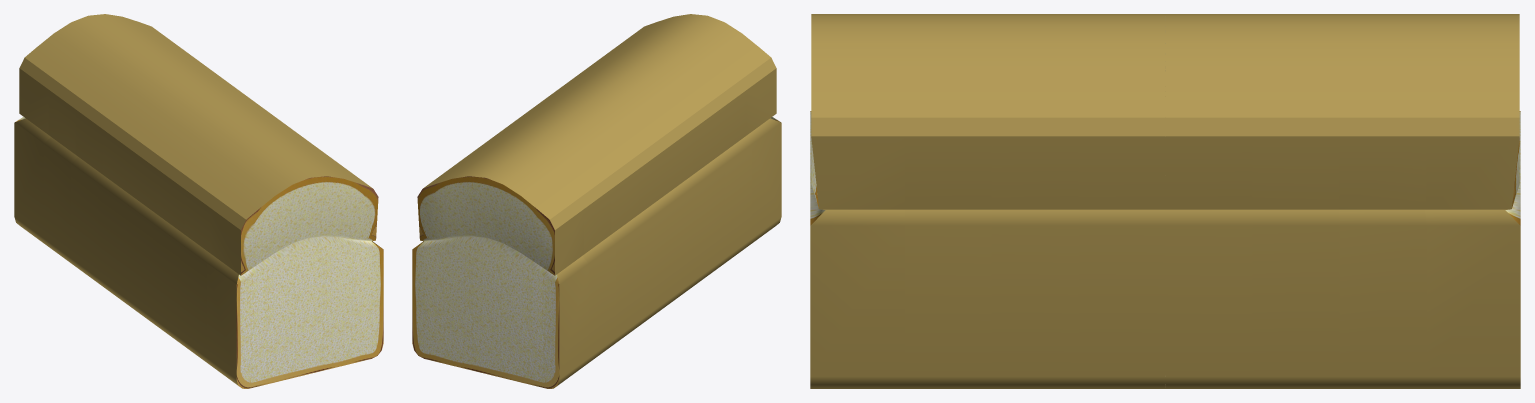
The model's file is Bread.fbx.
The picture shows the model from 3 angles, left to right: view 1: azimuth 30°, elevation 25°; view 2: azimuth 150°, elevation 25°; view 3: azimuth 270°, elevation 25°; orthographic projection. The views are drawn at different scales.
Parts seen in each view (by area): view 1: polySurface11, polySurface10, polySurface16, polySurface17, polySurface13, polySurface14, polySurface12, polySurface15; view 2: polySurface10, polySurface11, polySurface16, polySurface17, polySurface13, polySurface12, polySurface14, polySurface15; view 3: polySurface11, polySurface10, polySurface12, polySurface13, polySurface14, polySurface16, polySurface17, polySurface15.
Boxes of the visible parts, x1,y1,x2,y2 form: polySurface11: (207,154,383,388); polySurface10: (14,14,179,246); polySurface16: (71,55,234,285); polySurface17: (43,35,207,265); polySurface13: (125,95,288,325); polySurface14: (152,115,315,344); polySurface12: (98,75,261,304); polySurface15: (180,135,342,364); polySurface10: (412,155,588,388); polySurface11: (615,14,781,246); polySurface16: (479,115,643,345); polySurface17: (452,135,615,364); polySurface13: (534,75,697,304); polySurface12: (507,95,670,325); polySurface14: (561,55,724,285); polySurface15: (588,35,751,265); polySurface11: (810,14,904,388); polySurface10: (1425,14,1520,388); polySurface12: (1165,14,1252,388); polySurface13: (1078,14,1165,388); polySurface14: (991,14,1078,388); polySurface16: (1252,14,1339,388); polySurface17: (1338,14,1426,388); polySurface15: (905,14,991,388).
Bounding box in the file's own units: 8.74 × 11.13 × 22.88.
2 materials, 1 textured.
